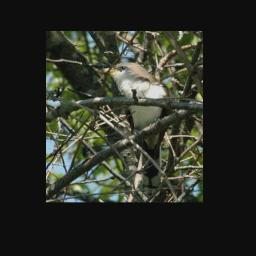Cuckoo: (97, 62, 175, 194)
